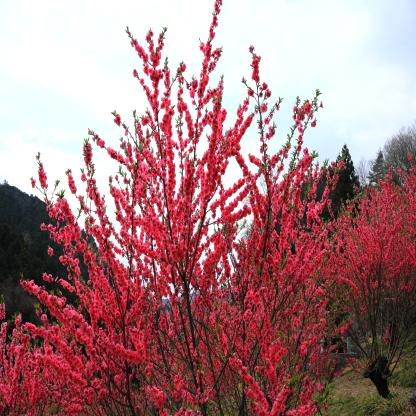Momo: (0, 0, 346, 416), (296, 150, 416, 377)
